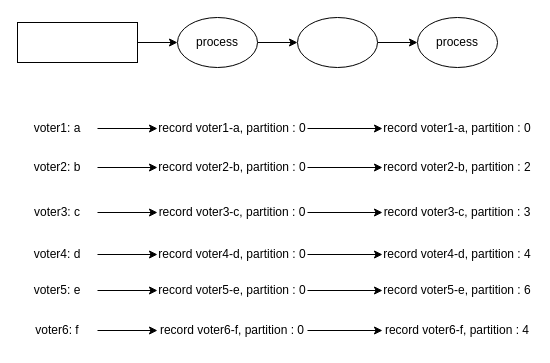
Some shapes in this 550 by 363 pixel diagram are drawn without their labels. Each missing label, with the box of its shape:
input-topic: (16, 22, 138, 62)
repartition: (296, 16, 378, 68)
